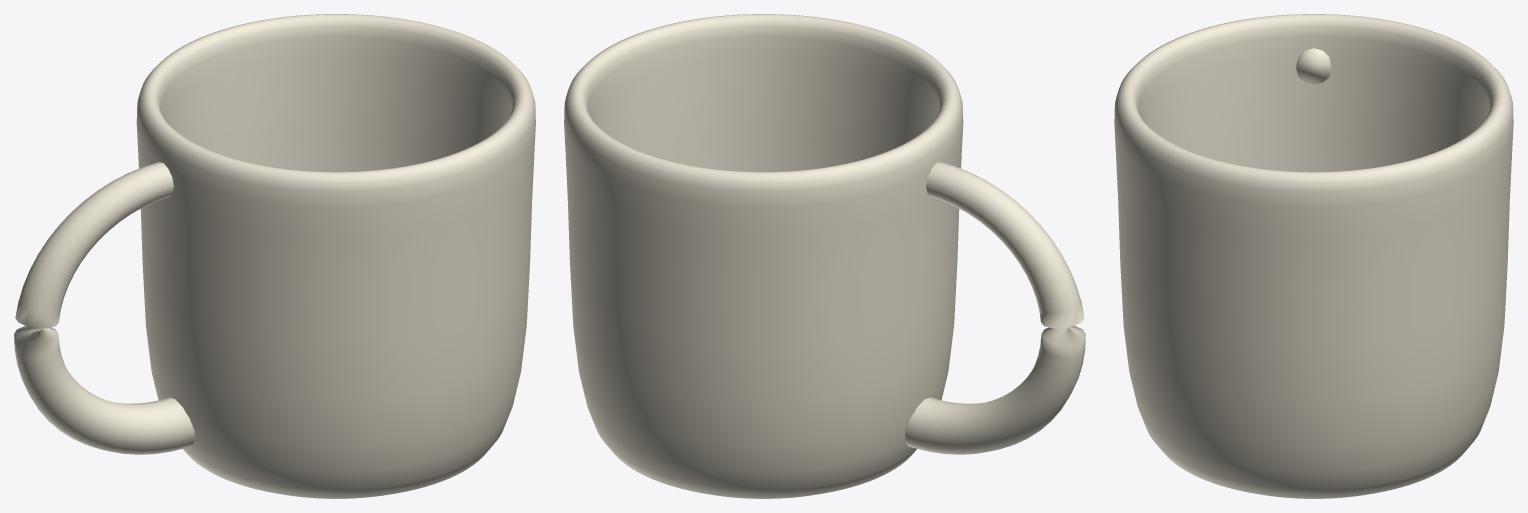
The model's file is cup.glb.
The picture shows the model from 3 angles, left to right: view 1: azimuth 30°, elevation 25°; view 2: azimuth 150°, elevation 25°; view 3: azimuth 270°, elevation 25°; orthographic projection.
Parts seen in each view (by area): view 1: asset-foundation-v1/cup; view 2: asset-foundation-v1/cup; view 3: asset-foundation-v1/cup.
Boxes of the visible parts, x1=… form: asset-foundation-v1/cup: x1=14, y1=14, x2=535, y2=498; asset-foundation-v1/cup: x1=564, y1=14, x2=1085, y2=498; asset-foundation-v1/cup: x1=1114, y1=14, x2=1513, y2=498.
Bounding box in the file's own units: 0.2001 × 0.136 × 0.1406.
